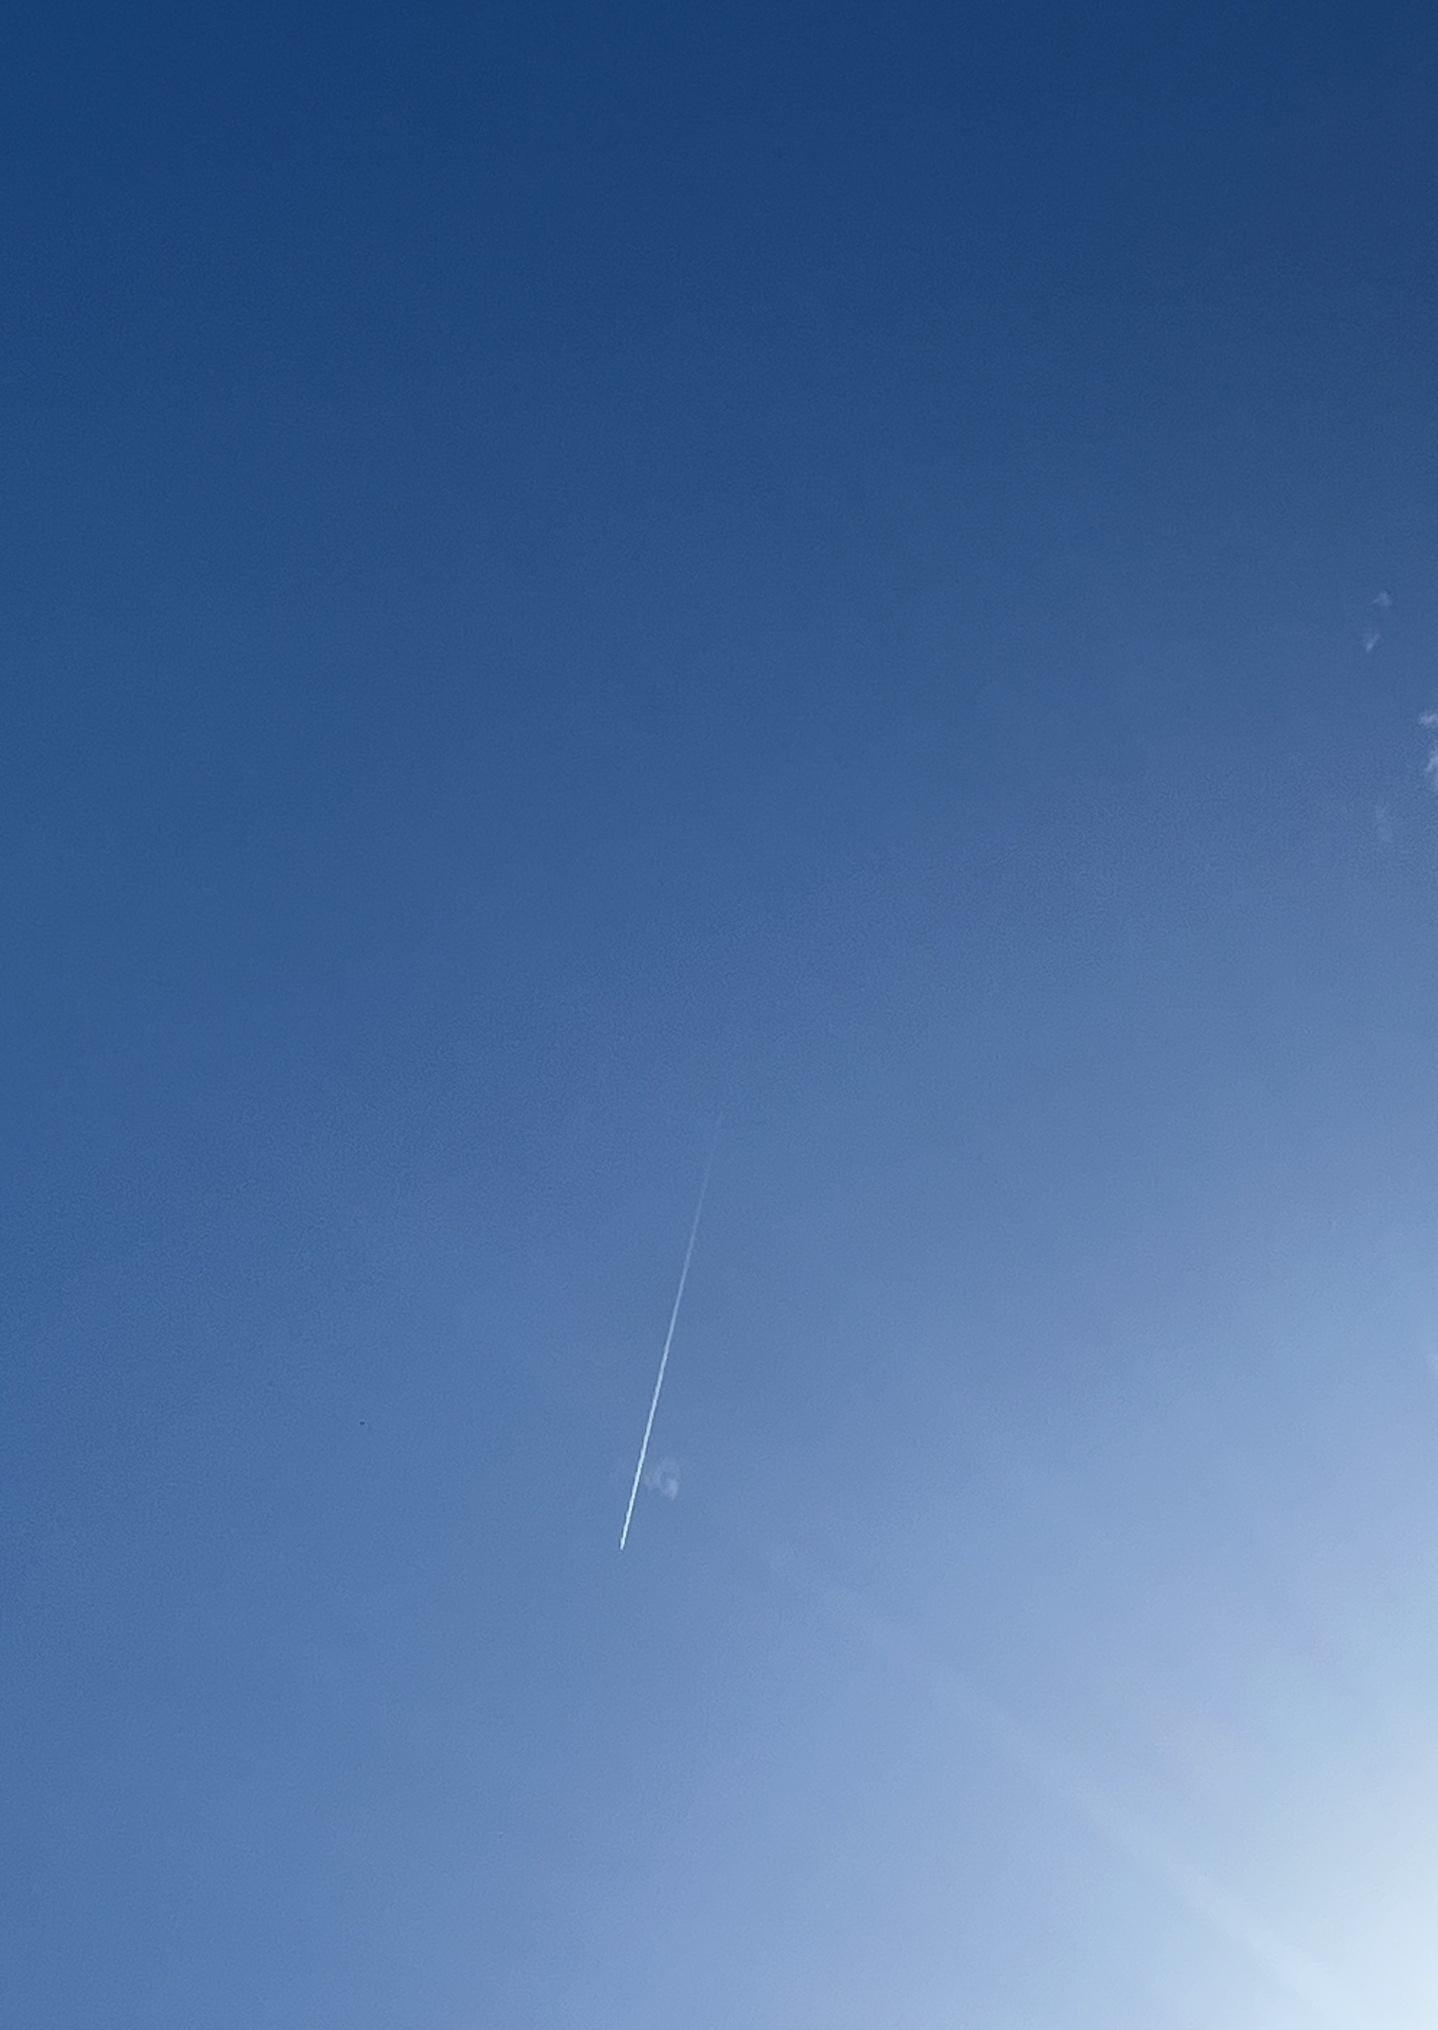Plane: (609, 1151, 749, 1587)
